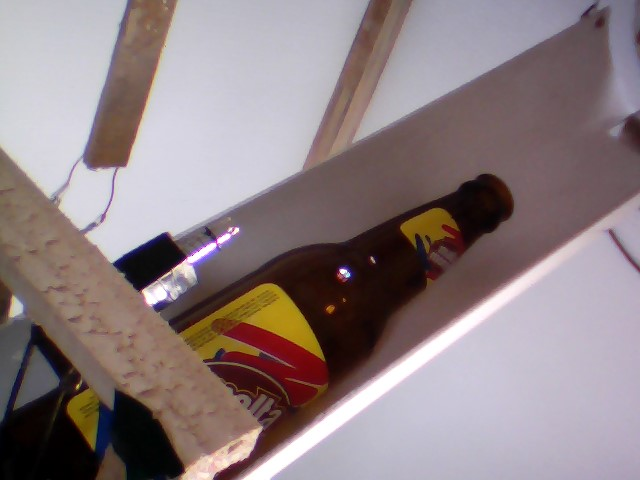vidrio: (210, 166, 518, 439)
